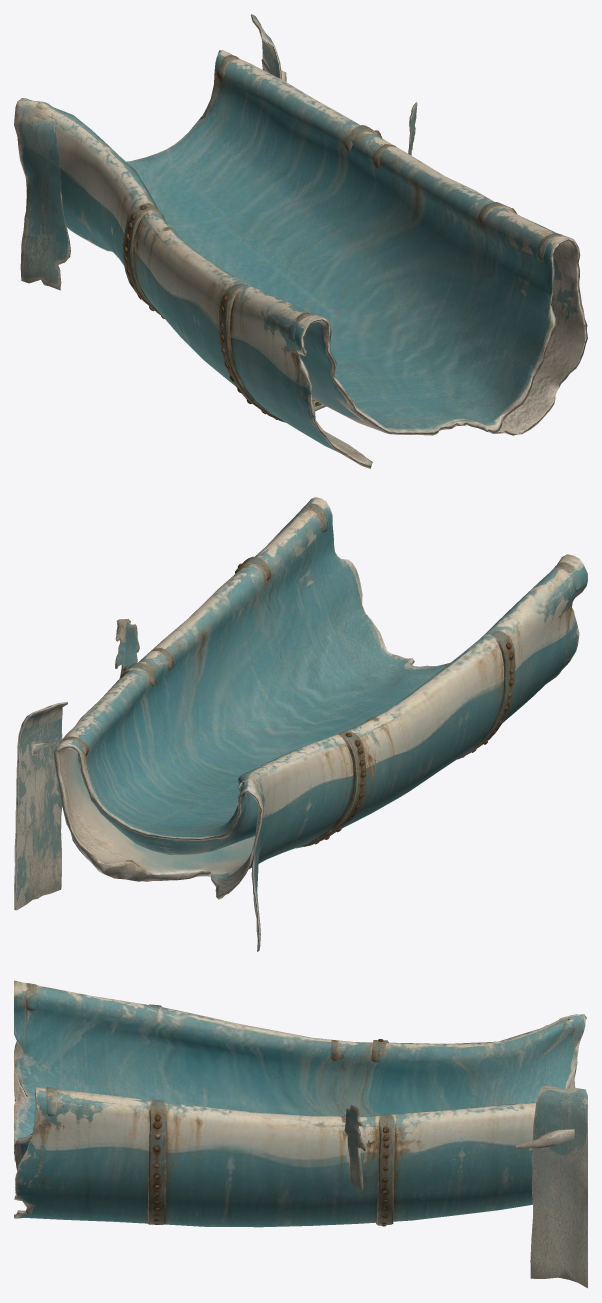
File: flume.glb
3 views of the same model, one above another, from view 1: azimuth 30°, elevation 25°; view 2: azimuth 150°, elevation 25°; view 3: azimuth 270°, elevation 25° (orthographic). The views are drawn at different scales.
Visible parts, largest first — view 1: flume; view 2: flume; view 3: flume.
Boxes of the visible parts, bbox=[...] form: flume: bbox=[14, 14, 587, 468]; flume: bbox=[14, 497, 587, 951]; flume: bbox=[14, 980, 587, 1288].
Bounding box in the file's own units: 0.5572 × 0.3719 × 1.
Materials: 1 (1 with a texture image).
